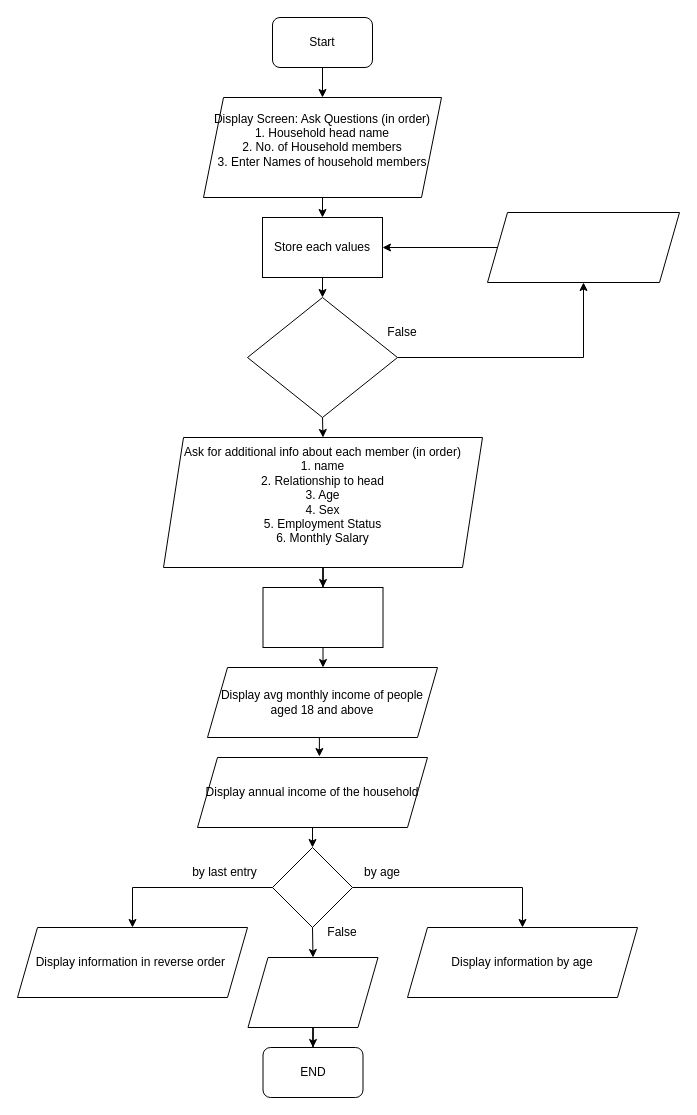
Image size: 697x1115. Some labels were removed from this diagram. Here are the shapes that lost their labels. From the top down, the centre of each, then its label:
At (x=583, y=247): "Update: 1. No. of household members 2. Names of household members".
At (x=322, y=357): "No more additional household members?".
At (x=322, y=617): "Store each values and compute salaries".
At (x=312, y=887): "Sort?".
At (x=312, y=992): "Display information".
